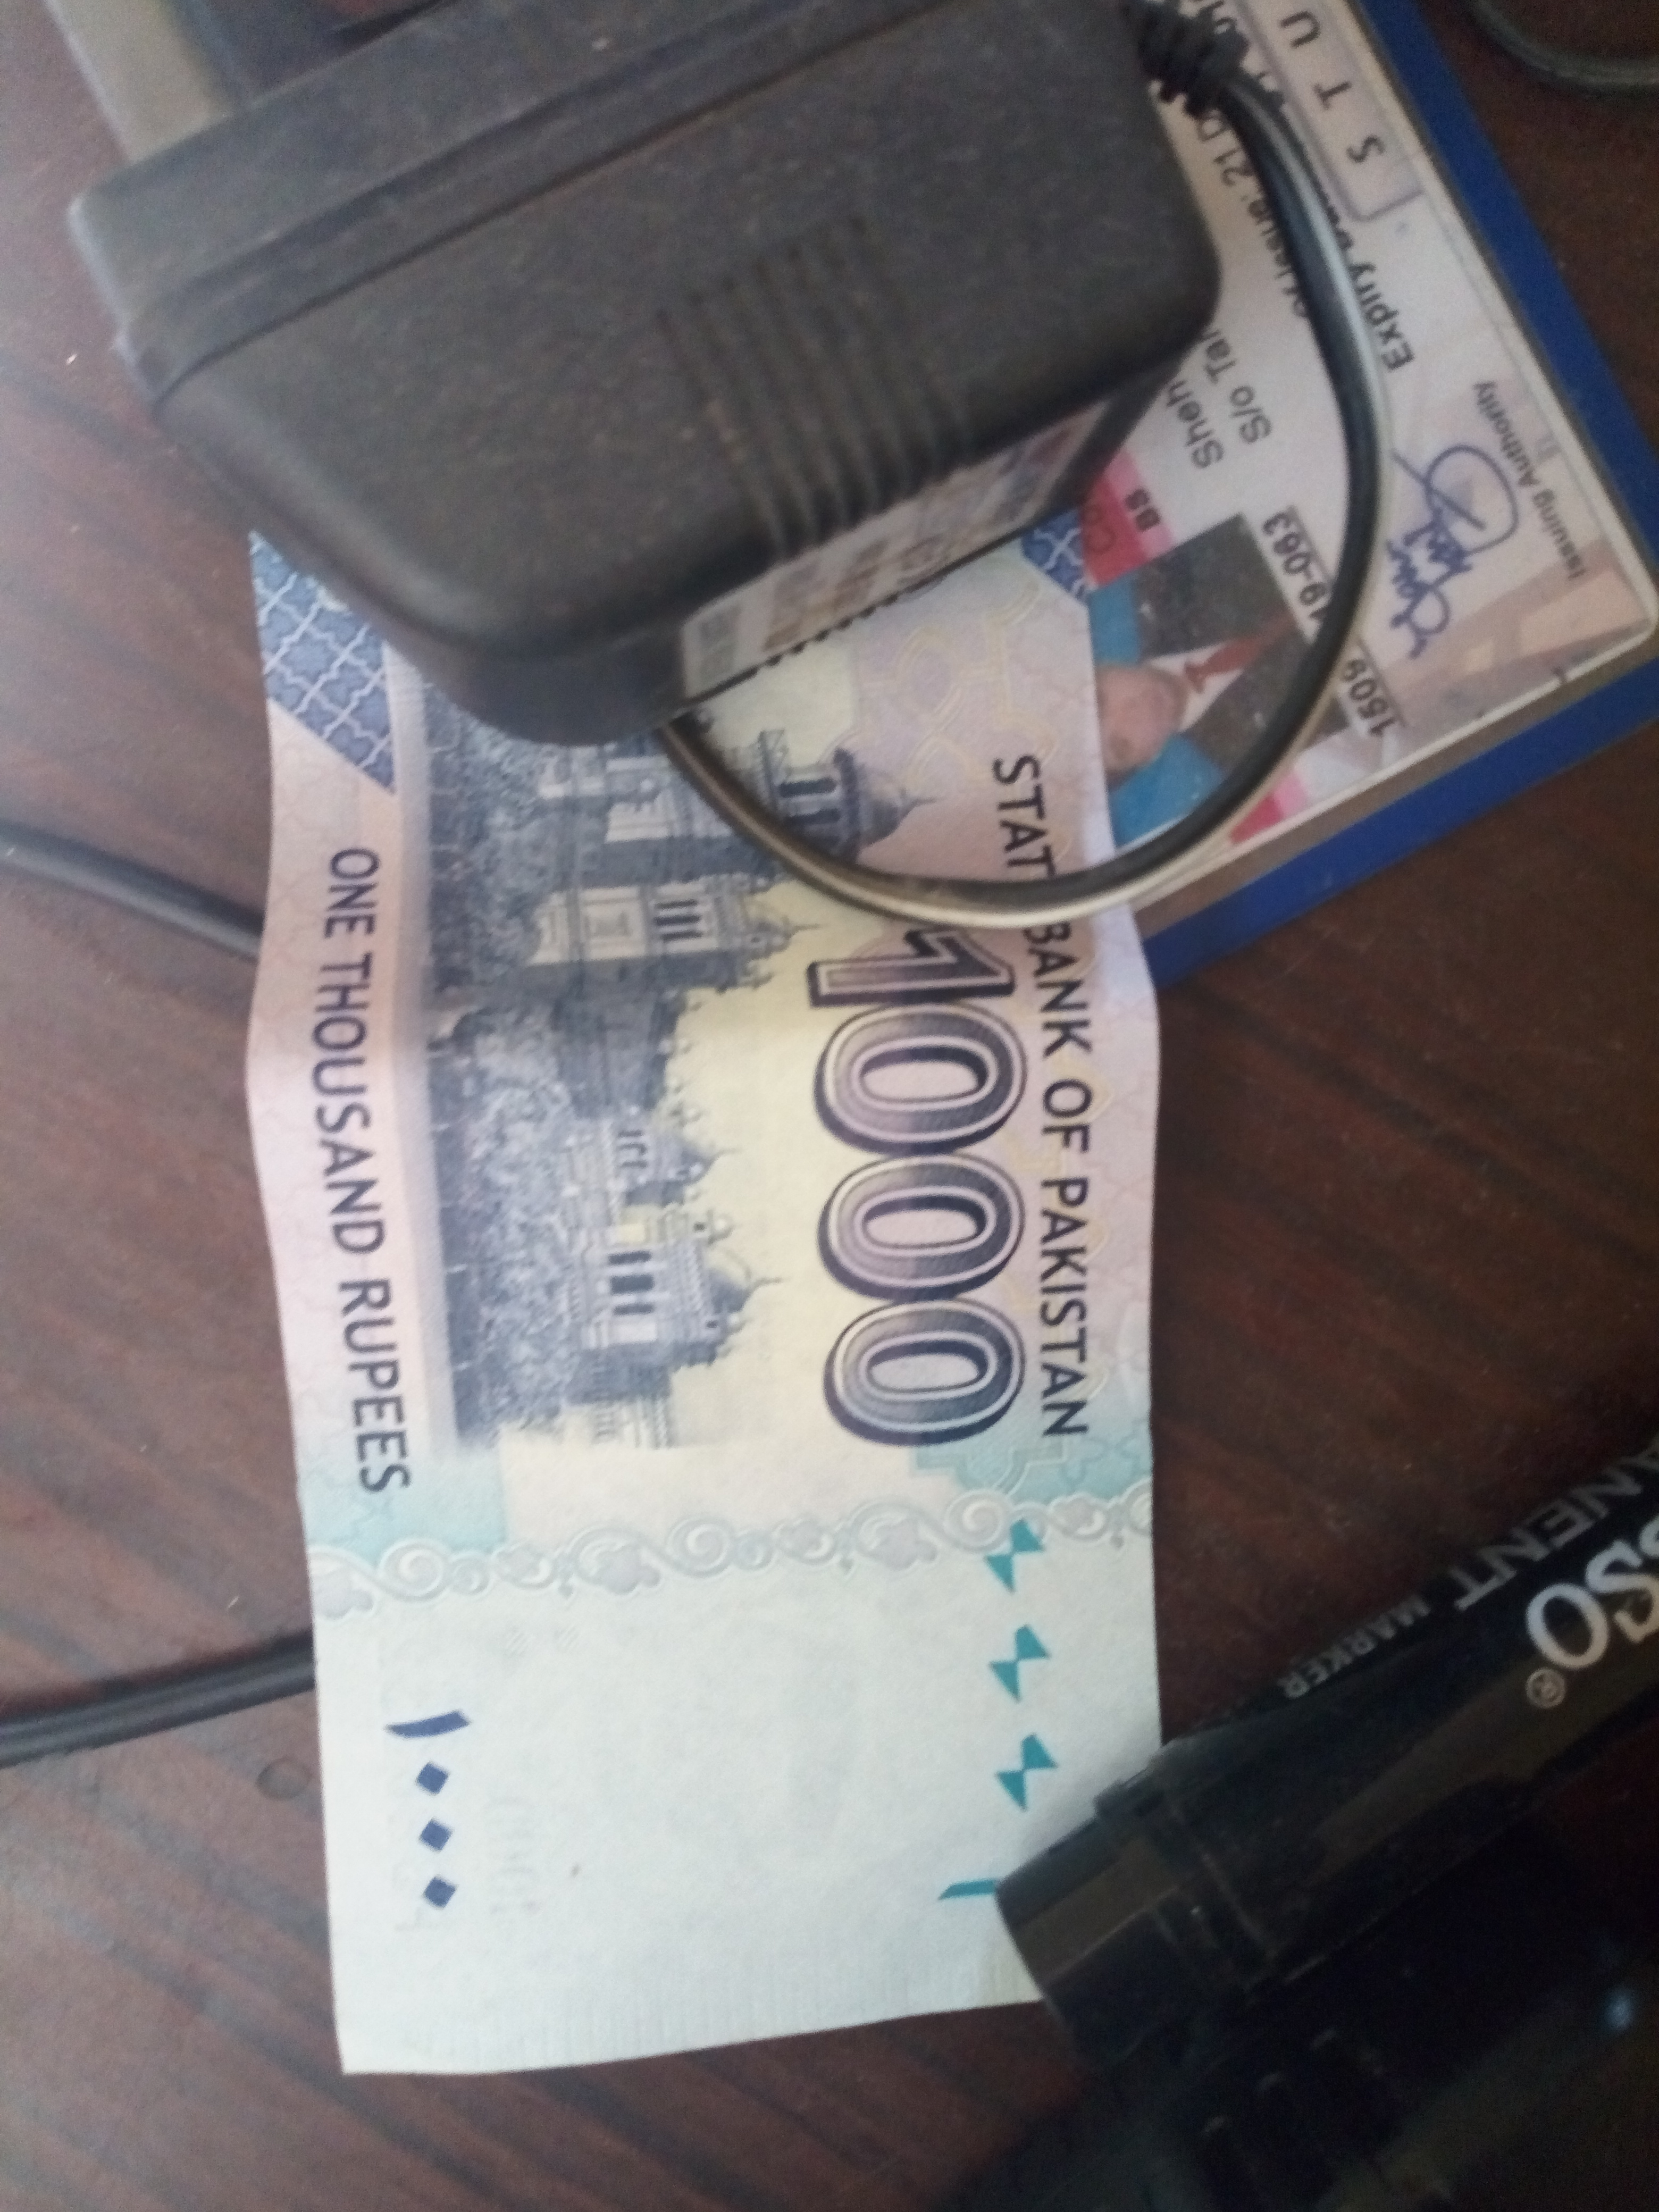1000 rupee: (91, 481, 1220, 2127)
